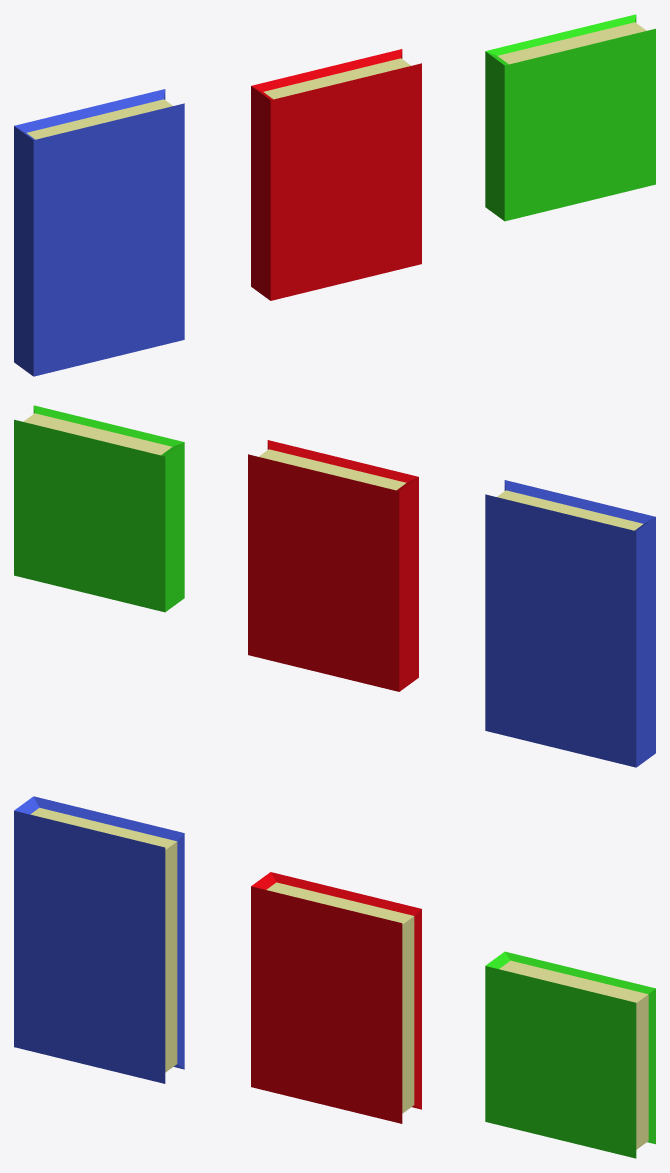
The model's file is livros.fbx.
3 views of the same model, one above another, from view 1: azimuth 30°, elevation 25°; view 2: azimuth 150°, elevation 25°; view 3: azimuth 330°, elevation 25° (orthographic).
Parts seen in each view (by area): view 1: livro.001, livro.002, livro; view 2: livro.001, livro.002, livro; view 3: livro.001, livro.002, livro.
Boxes of the visible parts, box(x1,y1,x2,y2) form: livro.001: box(14, 89, 184, 376); livro.002: box(251, 49, 421, 300); livro: box(485, 14, 655, 221); livro.001: box(485, 480, 655, 767); livro.002: box(248, 440, 418, 691); livro: box(14, 405, 184, 612); livro.001: box(14, 796, 184, 1083); livro.002: box(251, 872, 421, 1123); livro: box(485, 951, 655, 1158).
Bounding box in the file's own units: 823 × 299 × 44.92.
